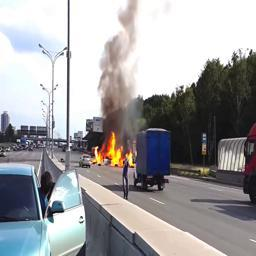fire: (92, 132, 137, 168)
